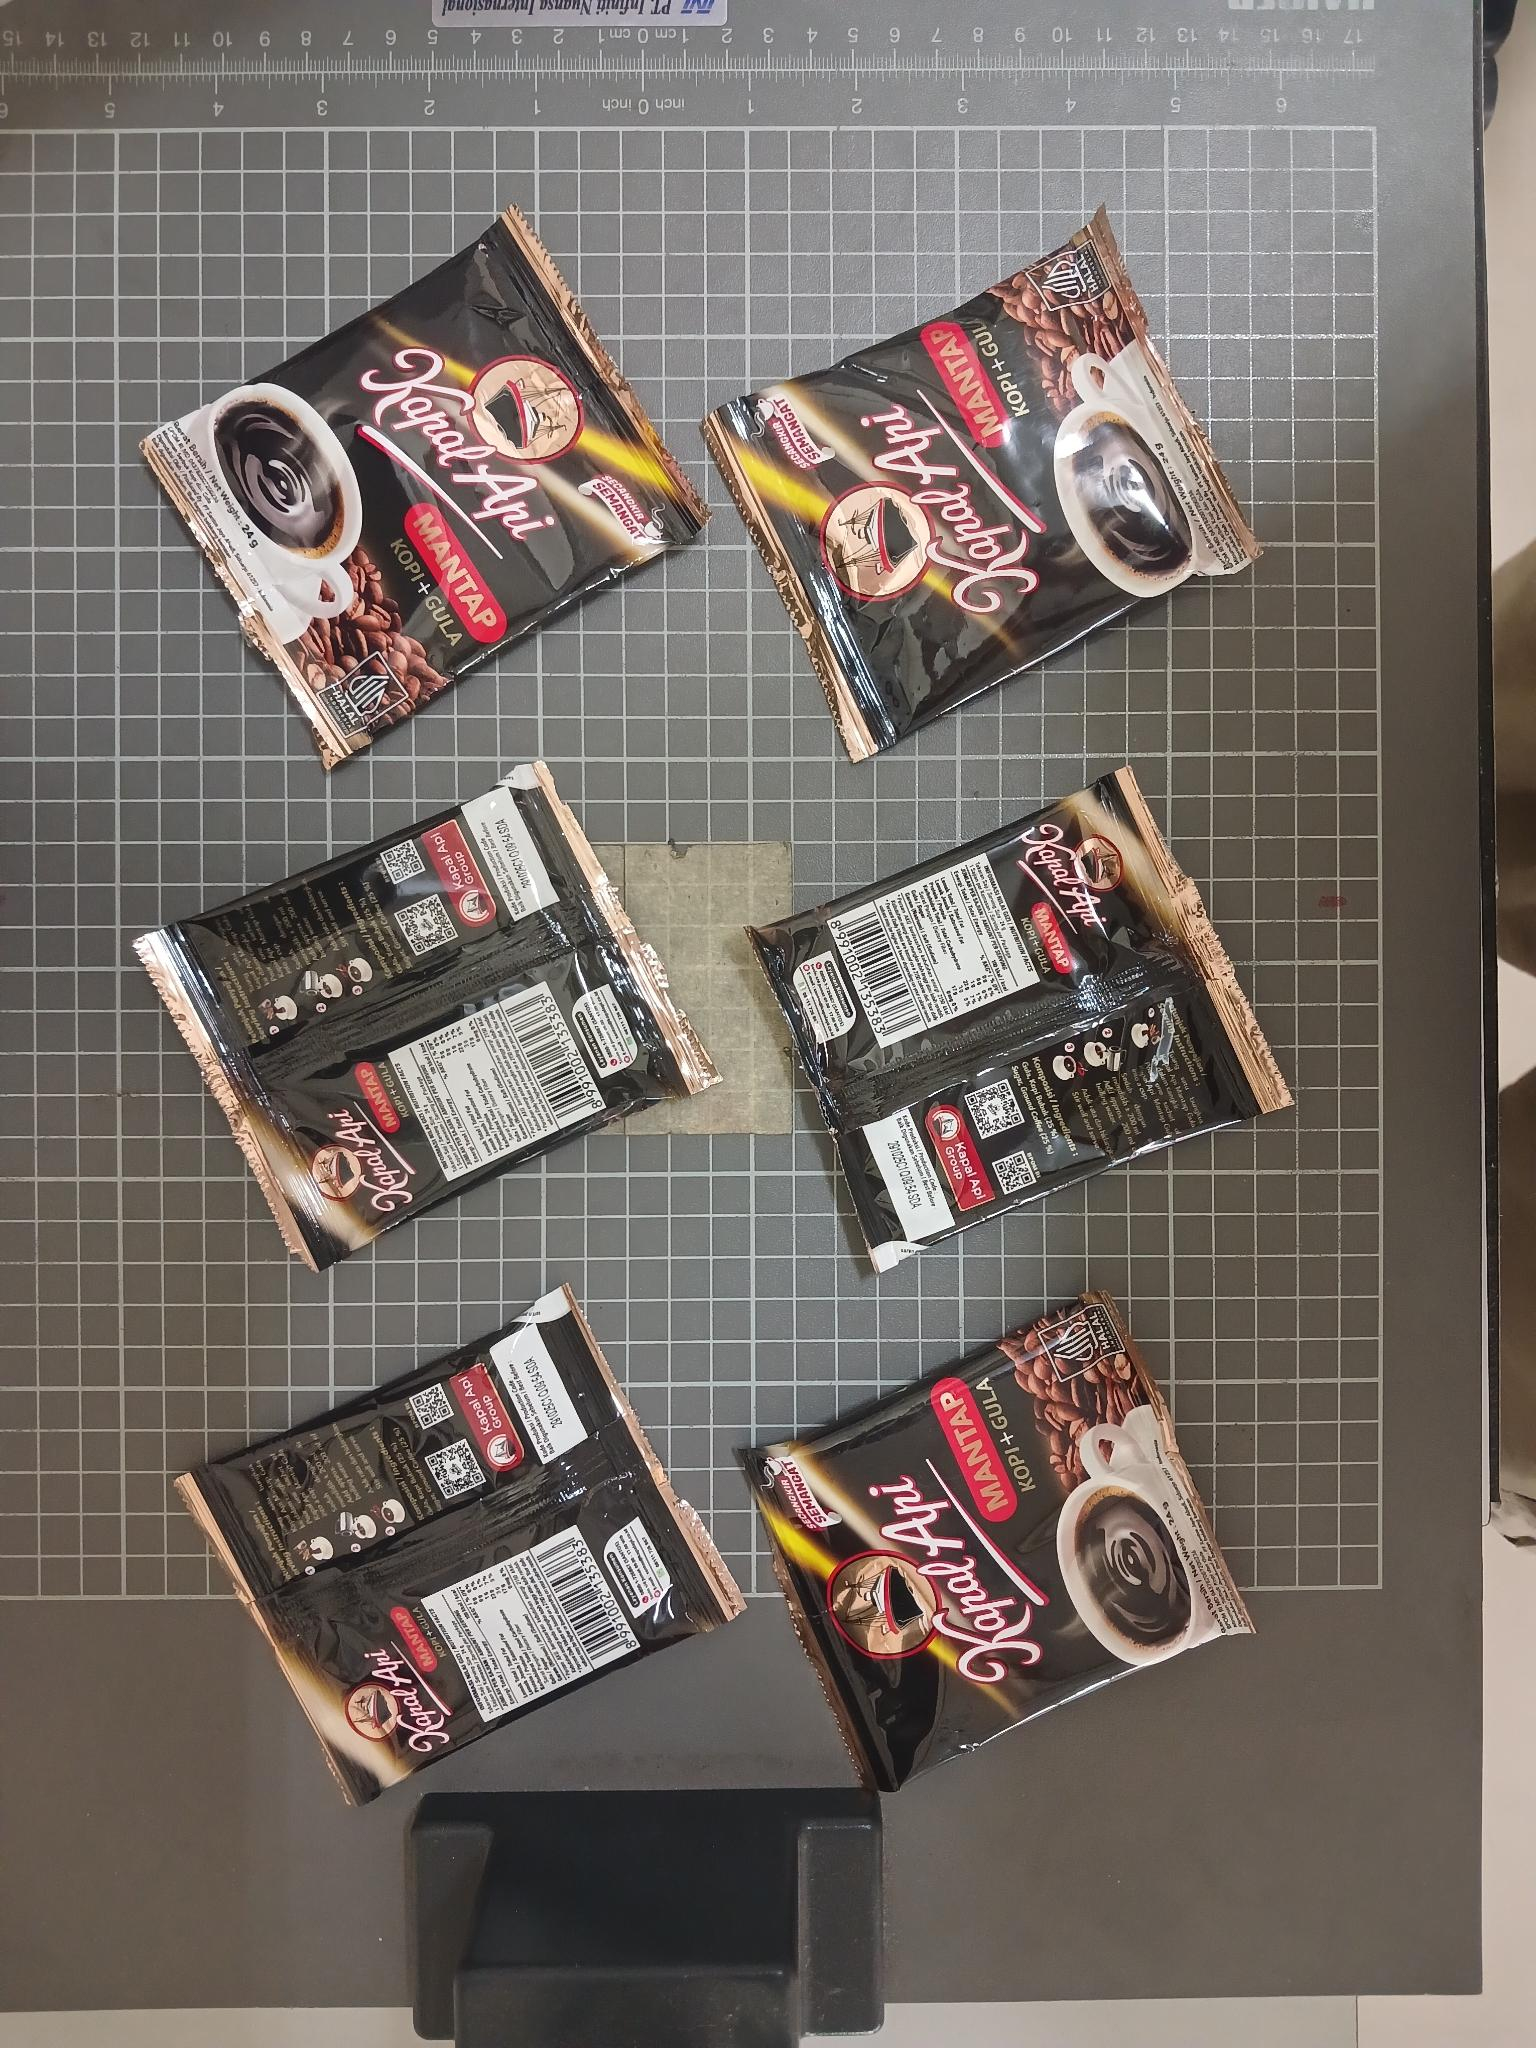back: (132, 755, 721, 1282), (171, 1279, 749, 1816), (739, 758, 1300, 1279)
front: (134, 197, 720, 771), (694, 202, 1267, 771), (733, 1279, 1262, 1804)
